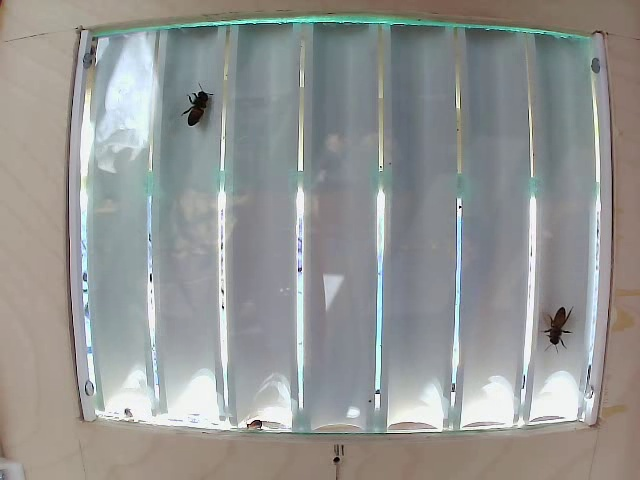bee: (181, 85, 219, 127), (545, 310, 576, 336)
